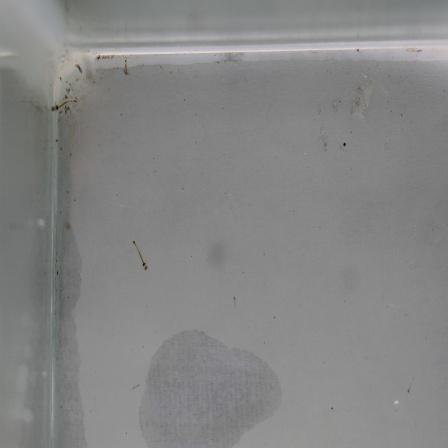Jentik-Nyamuk: (130, 237, 150, 276), (48, 95, 79, 113)
